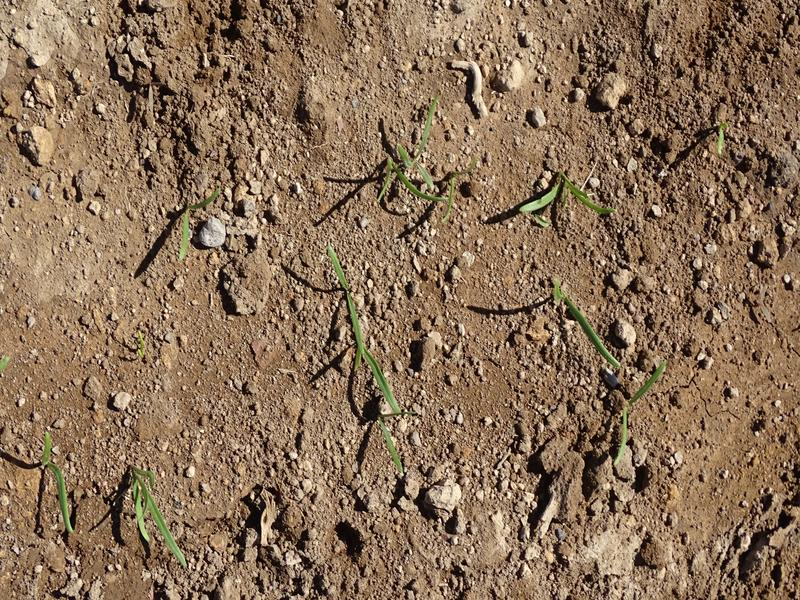Espinaca: (323, 242, 408, 417), (379, 94, 462, 214), (124, 462, 192, 569), (606, 358, 672, 463), (545, 288, 623, 369), (520, 172, 617, 223), (171, 185, 226, 263), (40, 434, 81, 532)
